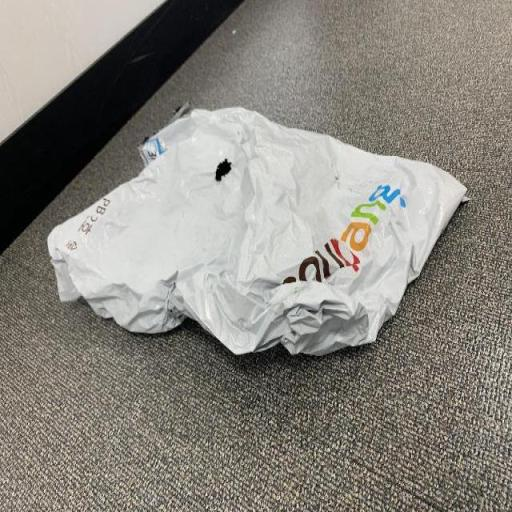plastic-bag: (47, 100, 474, 358)
